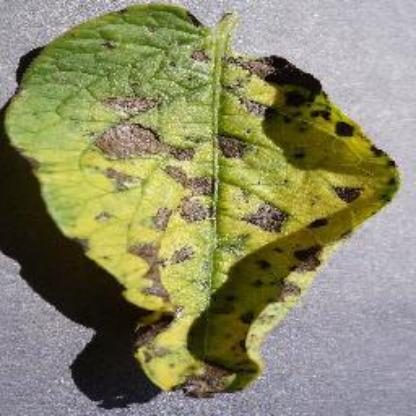Early-Blight: (5, 4, 397, 398)
